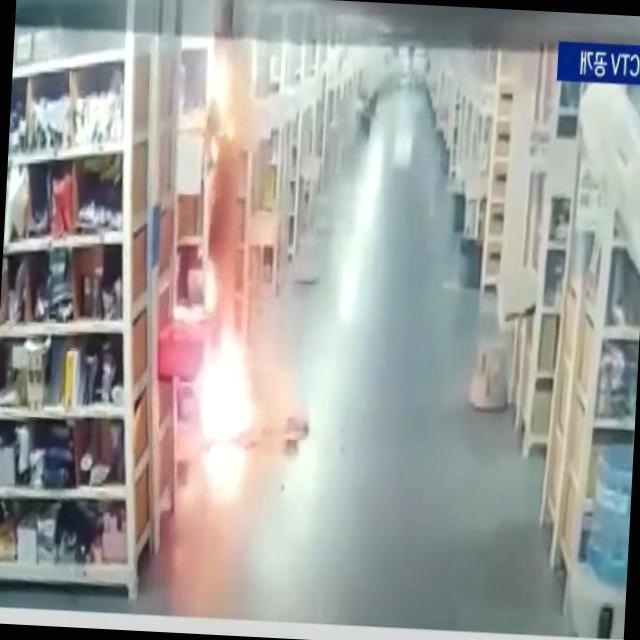fire: (186, 314, 264, 444), (197, 34, 254, 160)
